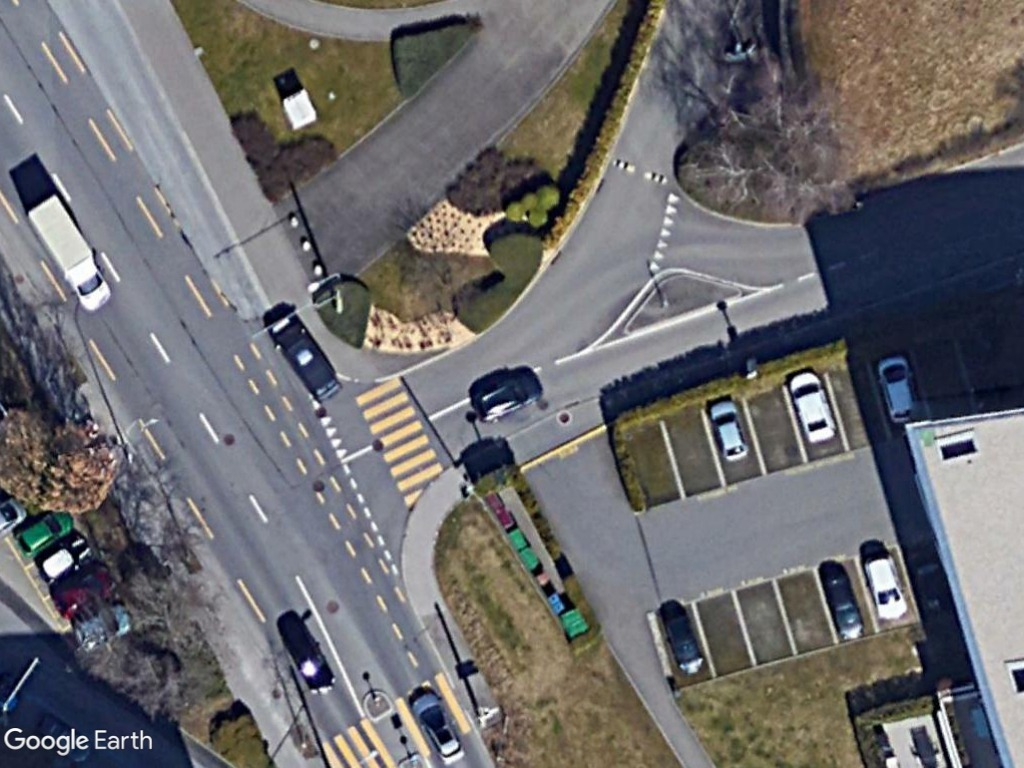car: (409, 692, 467, 767), (787, 371, 836, 442), (472, 375, 542, 423), (874, 354, 922, 424), (862, 553, 910, 620), (14, 507, 73, 560), (824, 570, 866, 644), (705, 399, 751, 464)
truck: (22, 194, 113, 316)
